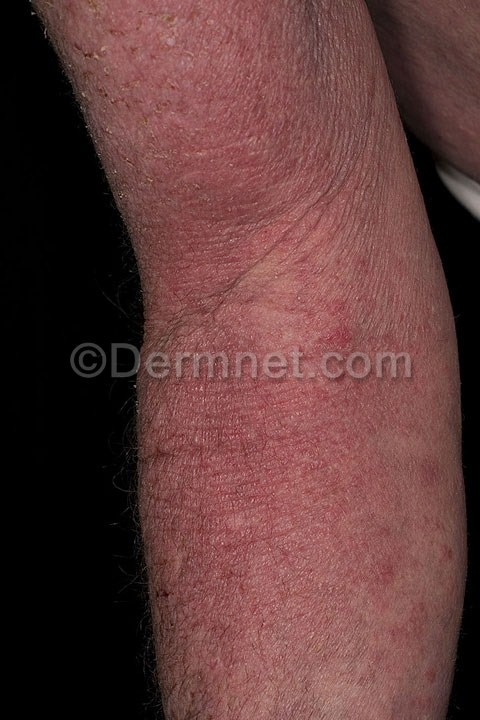Eczema: (53, 3, 466, 720)
